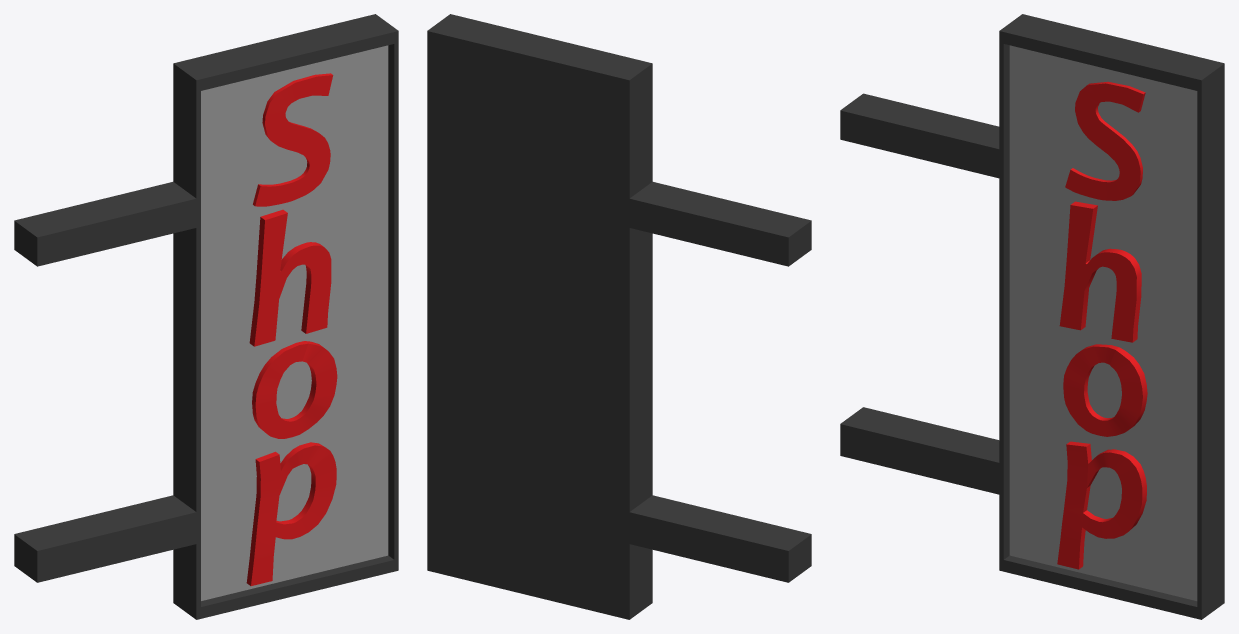
File: Shop.fbx
3 views of the same model, side by side, from view 1: azimuth 30°, elevation 25°; view 2: azimuth 150°, elevation 25°; view 3: azimuth 330°, elevation 25° (orthographic).
Parts seen in each view (by area): view 1: Cube, Cube.001; view 2: Cube; view 3: Cube, Cube.001.
Boxes of the visible parts, x1,y1,x2,y2 form: Cube: (14,14,398,619); Cube.001: (246,73,337,585); Cube: (427,14,811,619); Cube: (840,14,1224,619); Cube.001: (1057,81,1147,569).
Size of the model in its own units: 6.37 by 0.7074 by 9.09.
